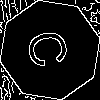C: (25, 25, 79, 71)
